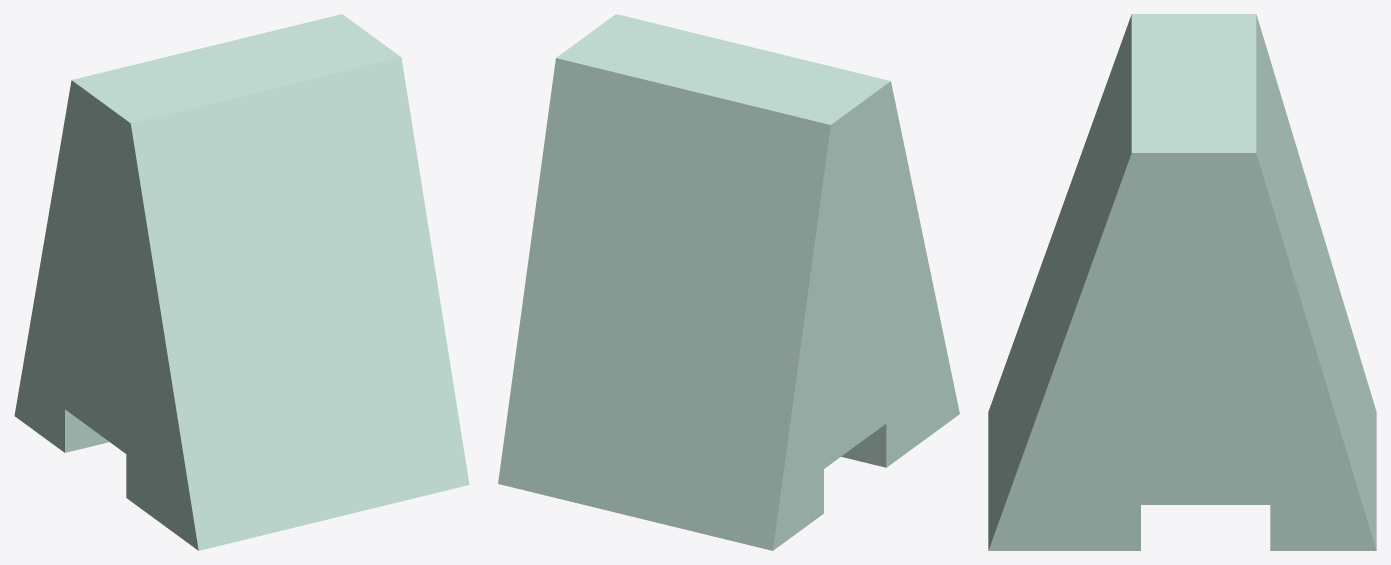
The picture shows the model from 3 angles, left to right: view 1: azimuth 30°, elevation 25°; view 2: azimuth 150°, elevation 25°; view 3: azimuth 270°, elevation 25°; orthographic projection. The views are drawn at different scales.
Parts seen in each view (by area): view 1: Renderer Node; view 2: Renderer Node; view 3: Renderer Node.
Part boxes in pixels (x1,y1,x2,y2): Renderer Node: (14,14,469,550); Renderer Node: (498,14,959,550); Renderer Node: (988,14,1376,550).
Bounding box in the file's own units: 0.5625 × 0.75 × 0.6632.
